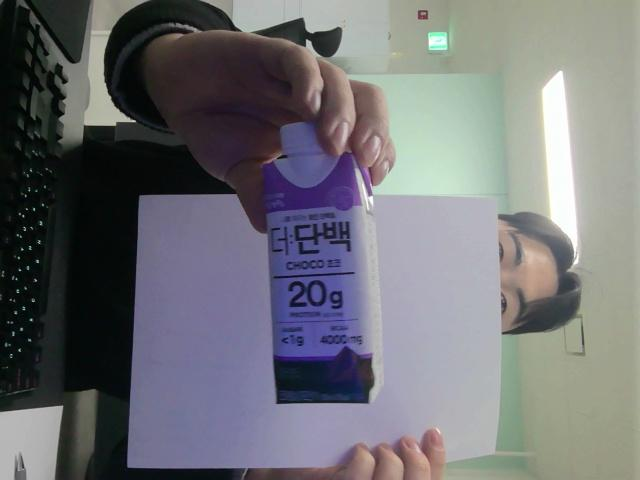milk: (264, 124, 383, 403)
